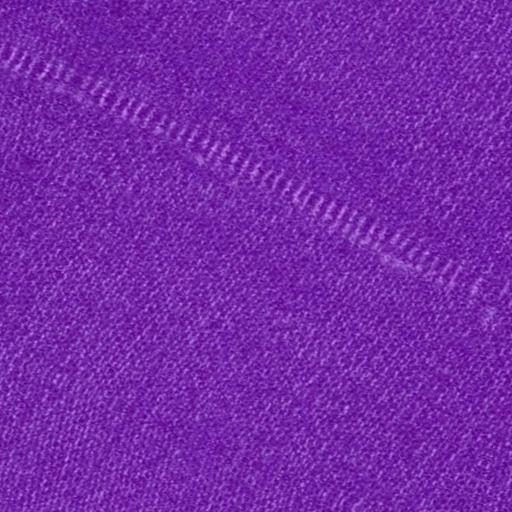slub: (0, 38, 469, 314)
